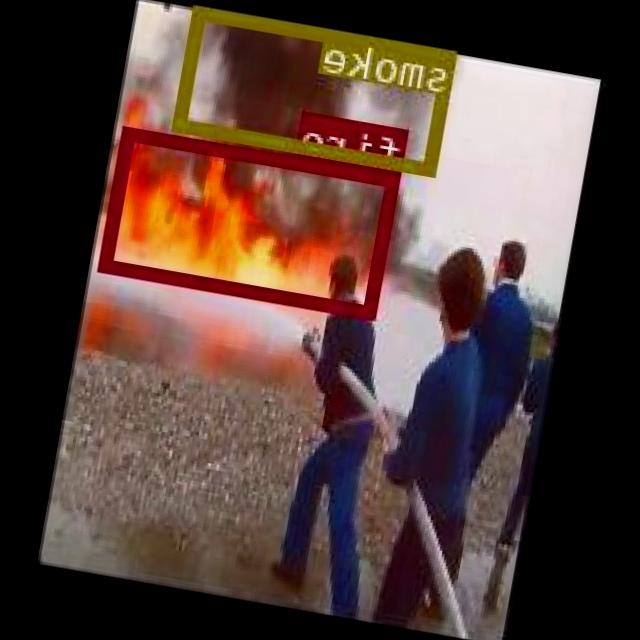fire: (101, 125, 401, 316)
smoke: (176, 5, 459, 173)
